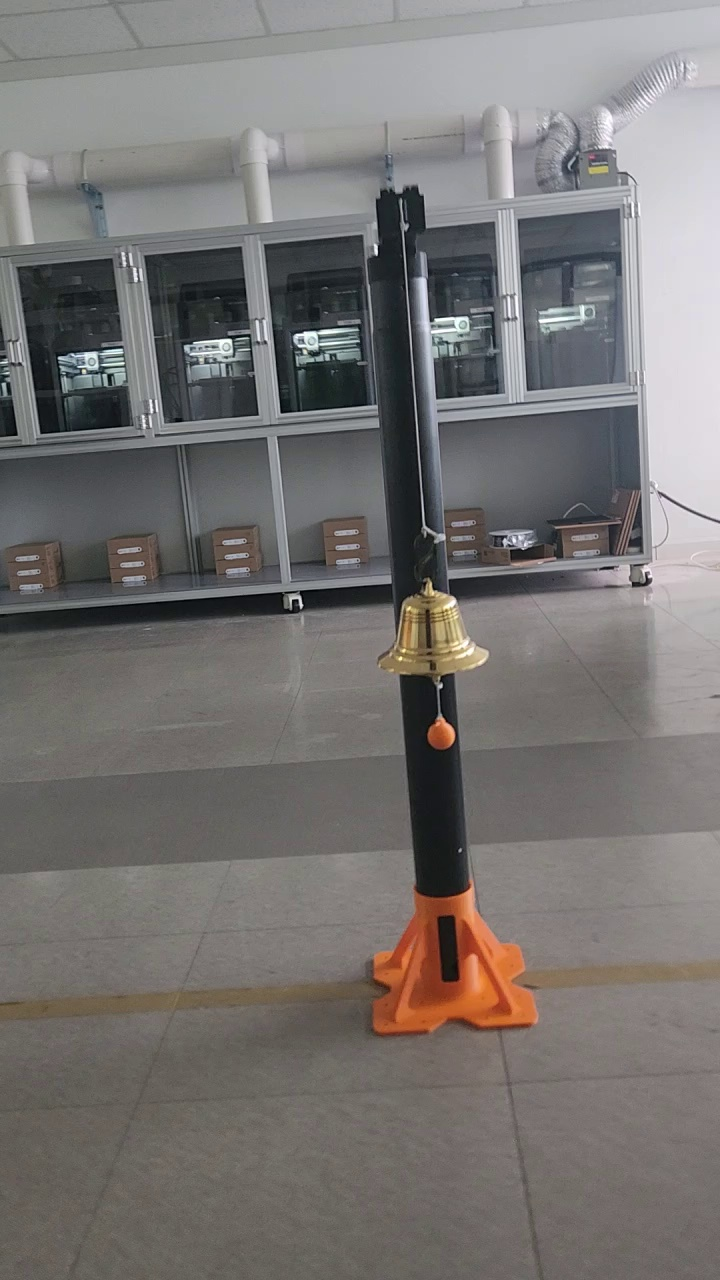bell: (375, 584, 492, 680)
pole: (367, 275, 467, 882)
